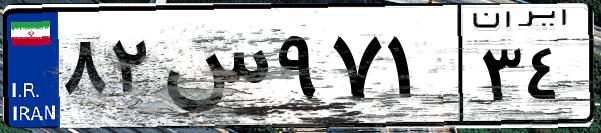1: (385, 28, 445, 110)
2: (110, 28, 158, 98)
3: (475, 38, 525, 113)
4: (525, 38, 570, 115)
7: (330, 28, 385, 110)
8: (57, 26, 110, 100)
9: (270, 28, 330, 110)
س: (158, 20, 270, 120)
